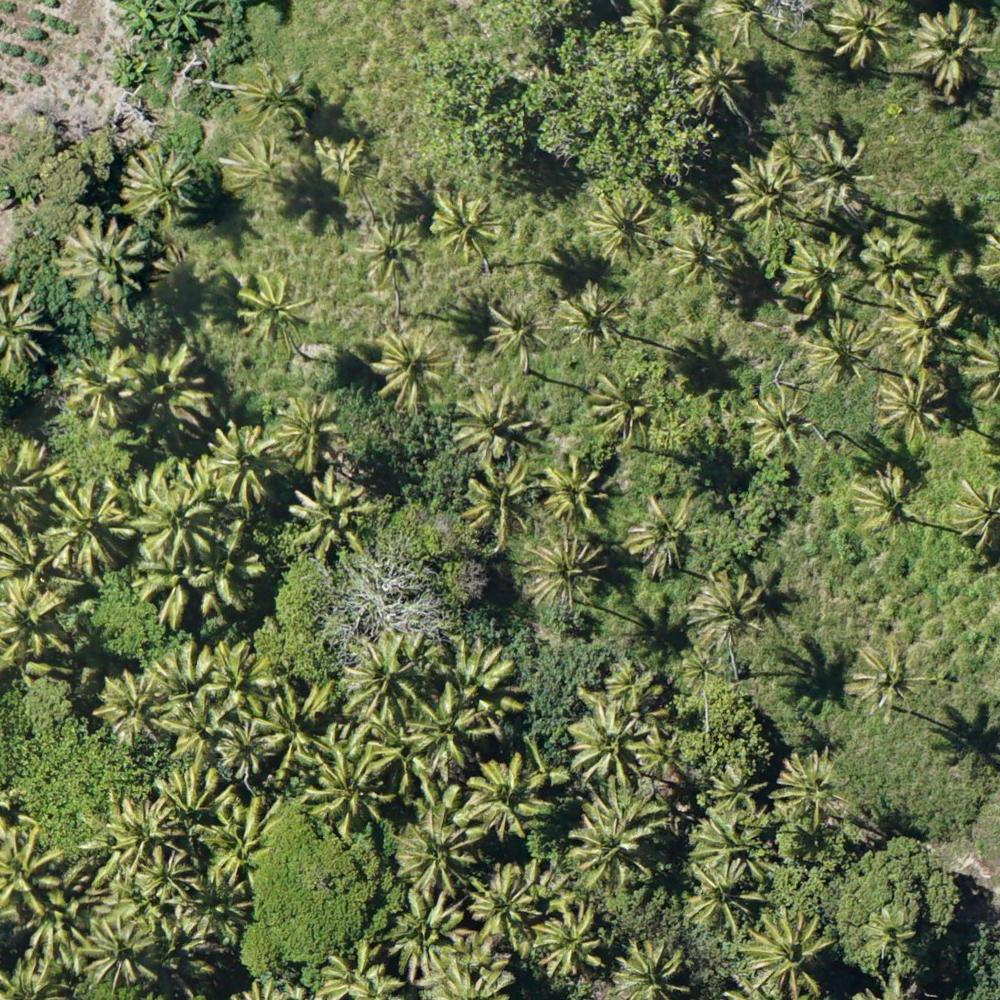Palm: (55, 213, 150, 304), (440, 630, 529, 723), (747, 906, 836, 998), (306, 744, 395, 830), (392, 809, 478, 897), (50, 479, 132, 571), (568, 699, 653, 783), (286, 471, 369, 557), (463, 755, 549, 838), (385, 893, 468, 976), (470, 865, 543, 958), (572, 802, 652, 885), (205, 422, 283, 507), (348, 635, 425, 721), (141, 348, 215, 436), (691, 571, 772, 651), (800, 132, 878, 215), (914, 5, 990, 90), (411, 688, 492, 767), (119, 144, 197, 226), (849, 636, 926, 718), (729, 156, 808, 234), (525, 533, 604, 611), (772, 752, 851, 830), (264, 679, 330, 772), (233, 269, 314, 344), (454, 384, 536, 457), (376, 328, 451, 406), (1, 579, 69, 663), (800, 317, 876, 392), (145, 482, 219, 559), (780, 234, 855, 309), (532, 900, 606, 976), (628, 497, 700, 574), (888, 289, 962, 363), (554, 280, 628, 354), (462, 461, 535, 536), (615, 933, 696, 1000), (101, 671, 175, 744), (99, 801, 176, 871), (205, 634, 274, 712), (878, 372, 951, 445), (591, 372, 659, 450), (351, 219, 422, 292), (85, 912, 155, 986), (67, 348, 138, 419), (431, 190, 498, 265), (588, 191, 658, 262), (852, 462, 917, 538), (486, 298, 552, 371), (865, 228, 929, 302), (745, 392, 814, 460), (241, 62, 311, 129), (686, 862, 759, 926), (220, 136, 286, 206), (276, 395, 338, 468), (824, 1, 895, 64), (543, 456, 608, 524), (687, 50, 753, 116), (126, 845, 192, 907), (621, 1, 695, 52), (670, 223, 733, 280), (211, 724, 274, 780), (602, 656, 663, 713), (701, 767, 766, 818), (317, 136, 375, 193), (859, 910, 914, 956)
